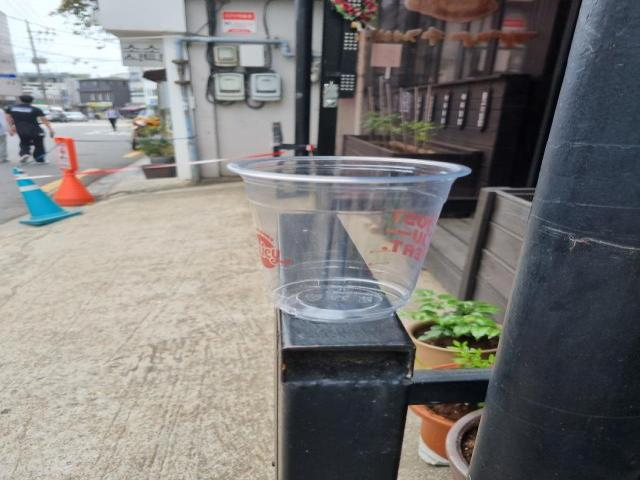cup: (217, 150, 480, 328)
